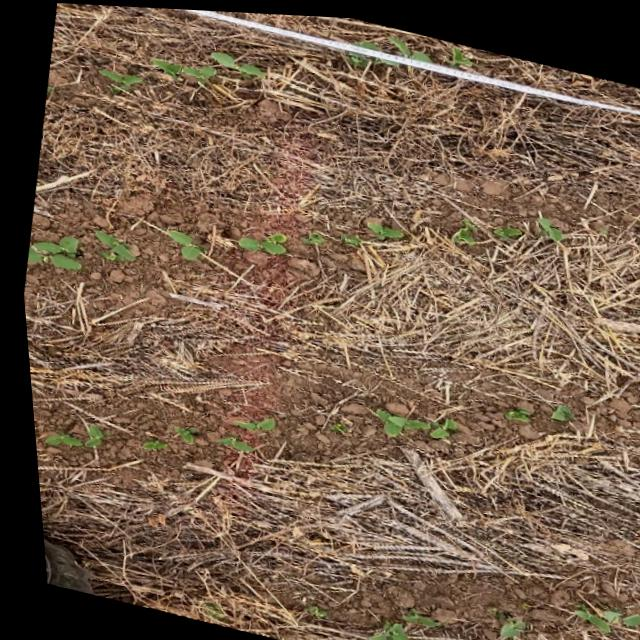soy_plant: (368, 405, 449, 434), (565, 599, 632, 627), (150, 56, 215, 84), (23, 235, 76, 269), (209, 48, 263, 75), (37, 424, 97, 447), (90, 230, 130, 261), (160, 227, 199, 258), (230, 229, 282, 252), (358, 617, 400, 640), (99, 69, 140, 91), (363, 217, 400, 236), (391, 605, 427, 624), (447, 214, 473, 240), (208, 433, 246, 450), (225, 415, 268, 429), (489, 611, 514, 632), (488, 221, 517, 234), (544, 399, 566, 416), (497, 403, 523, 417), (538, 215, 557, 233), (134, 437, 159, 449), (166, 427, 187, 441), (301, 228, 320, 242), (336, 231, 356, 241)
